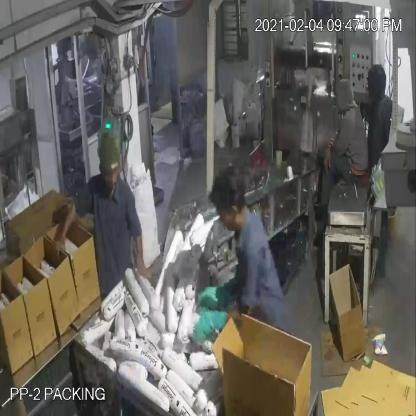glove: (189, 310, 233, 345), (195, 278, 241, 310)
no_glove: (52, 196, 84, 263), (126, 212, 150, 282)
